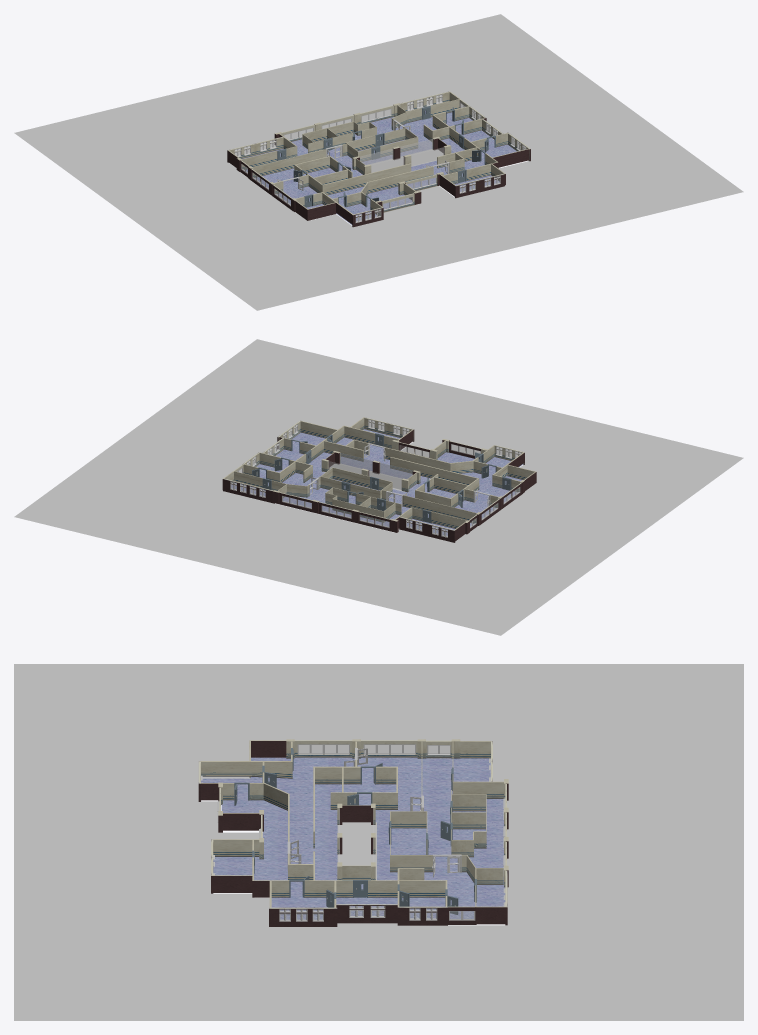
Rendered from Level02Final.fbx.
The picture shows the model from 3 angles, top to bottom: view 1: azimuth 30°, elevation 25°; view 2: azimuth 150°, elevation 25°; view 3: azimuth 270°, elevation 25°; orthographic projection. The views are drawn at different scales.
Parts seen in each view (by area): view 1: Level_2_Layout:Groundplane_outside, Level_2_Layout:Walls, Level_2_Layout:Groundplane_inside, Level_2_Layout:Windowed_Wall_1, Level_2_Layout:Windowed_Wall_2, Level_2_Layout:Doors_1, Glass_Wall; view 2: Level_2_Layout:Groundplane_outside, Level_2_Layout:Walls, Level_2_Layout:Groundplane_inside, Level_2_Layout:Windowed_Wall_1, Level_2_Layout:Windowed_Wall_2, Level_2_Layout:Doors_1, Glass_Wall; view 3: Level_2_Layout:Groundplane_outside, Level_2_Layout:Groundplane_inside, Level_2_Layout:Walls, Level_2_Layout:Windowed_Wall_1, Level_2_Layout:Windowed_Wall_2, Level_2_Layout:Doors_1, Level_2_Layout:Doors_2, Window5.
Part boxes in pixels (left/top/right/bottom): Level_2_Layout:Groundplane_outside: left=14, top=14, right=743, bottom=310; Level_2_Layout:Walls: left=228, top=91, right=529, bottom=224; Level_2_Layout:Groundplane_inside: left=241, top=110, right=516, bottom=224; Level_2_Layout:Windowed_Wall_1: left=227, top=91, right=530, bottom=227; Level_2_Layout:Windowed_Wall_2: left=240, top=99, right=469, bottom=212; Level_2_Layout:Doors_1: left=277, top=106, right=495, bottom=209; Glass_Wall: left=360, top=139, right=444, bottom=172; Level_2_Layout:Groundplane_outside: left=14, top=339, right=743, bottom=635; Level_2_Layout:Walls: left=222, top=417, right=536, bottom=540; Level_2_Layout:Groundplane_inside: left=231, top=429, right=523, bottom=535; Level_2_Layout:Windowed_Wall_1: left=223, top=417, right=524, bottom=542; Level_2_Layout:Windowed_Wall_2: left=233, top=441, right=522, bottom=531; Level_2_Layout:Doors_1: left=252, top=433, right=511, bottom=523; Glass_Wall: left=328, top=453, right=412, bottom=489; Level_2_Layout:Groundplane_outside: left=14, top=664, right=743, bottom=1020; Level_2_Layout:Groundplane_inside: left=201, top=757, right=505, bottom=919; Level_2_Layout:Walls: left=200, top=739, right=508, bottom=924; Level_2_Layout:Windowed_Wall_1: left=198, top=741, right=507, bottom=926; Level_2_Layout:Windowed_Wall_2: left=217, top=740, right=506, bottom=924; Level_2_Layout:Doors_1: left=234, top=748, right=476, bottom=914; Level_2_Layout:Doors_2: left=287, top=747, right=461, bottom=877; Window5: left=299, top=745, right=414, bottom=752.
Bounding box in the file's own units: 397 × 10.23 × 343.
